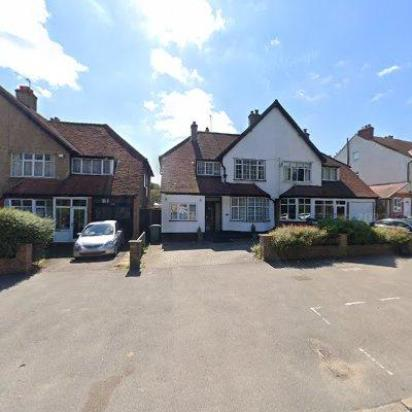stationary-car-offstreet: (70, 220, 124, 262), (372, 216, 410, 238), (304, 216, 334, 230)
